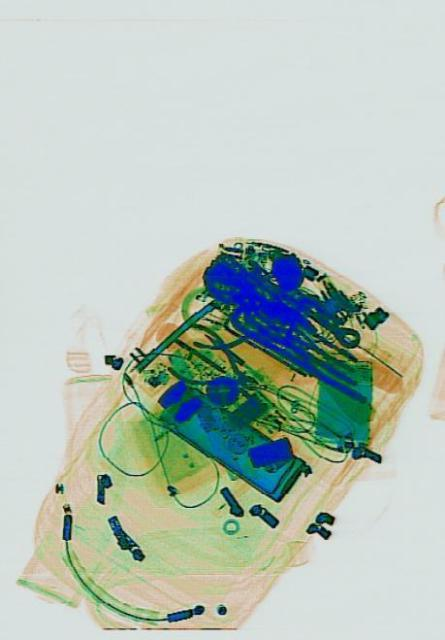Pliers: (165, 314, 266, 414)
Wrench: (294, 291, 361, 354)
